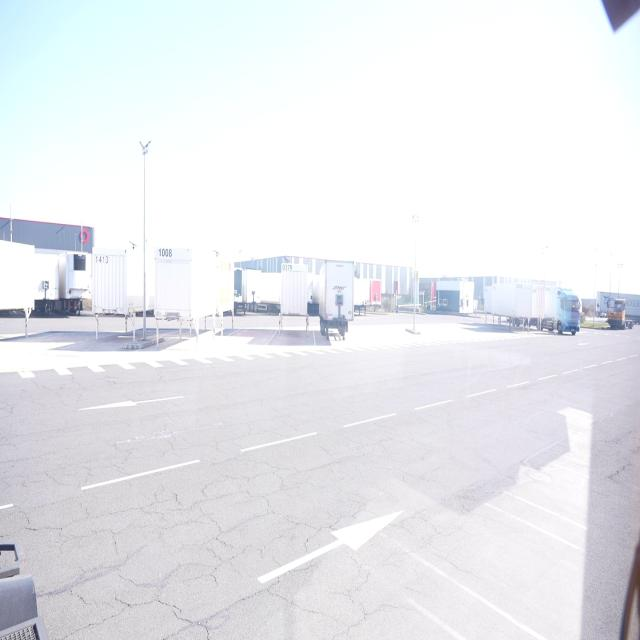Code: (93, 250, 112, 268), (157, 243, 174, 261), (280, 260, 296, 274)
